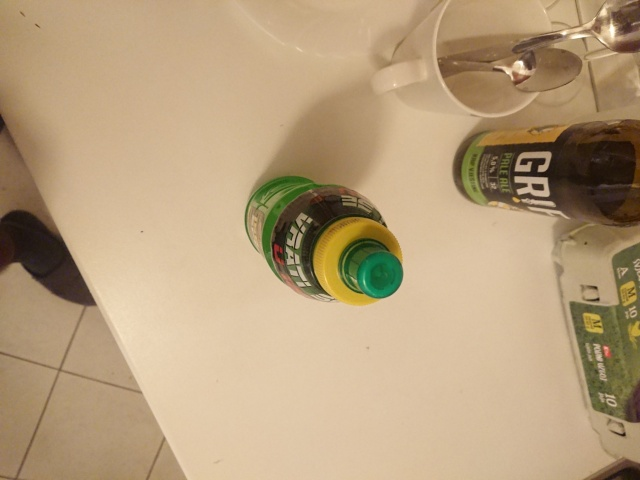Vindi Iso Sport Lemon-Grapefruit 500mL: (241, 172, 407, 309)
